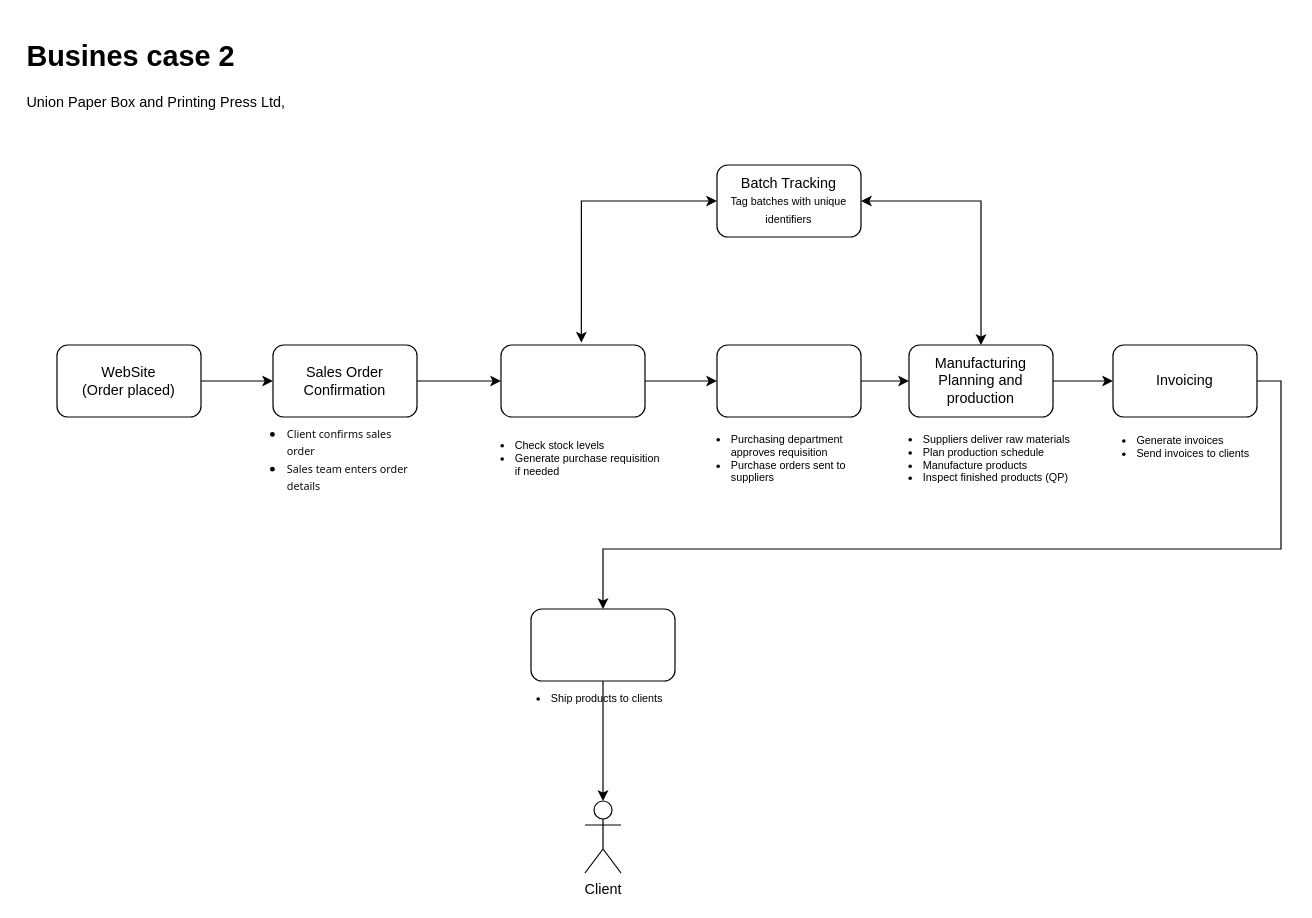
The diagram is 1312 pixels wide and 918 high, and some of its shapes have lost their labels. Here are the shapes that lost their labels. From the top down, the centre of each, then its label:
(572,380): Inventory Management
(788,380): Purchase Requisition
(602,644): Delivery
